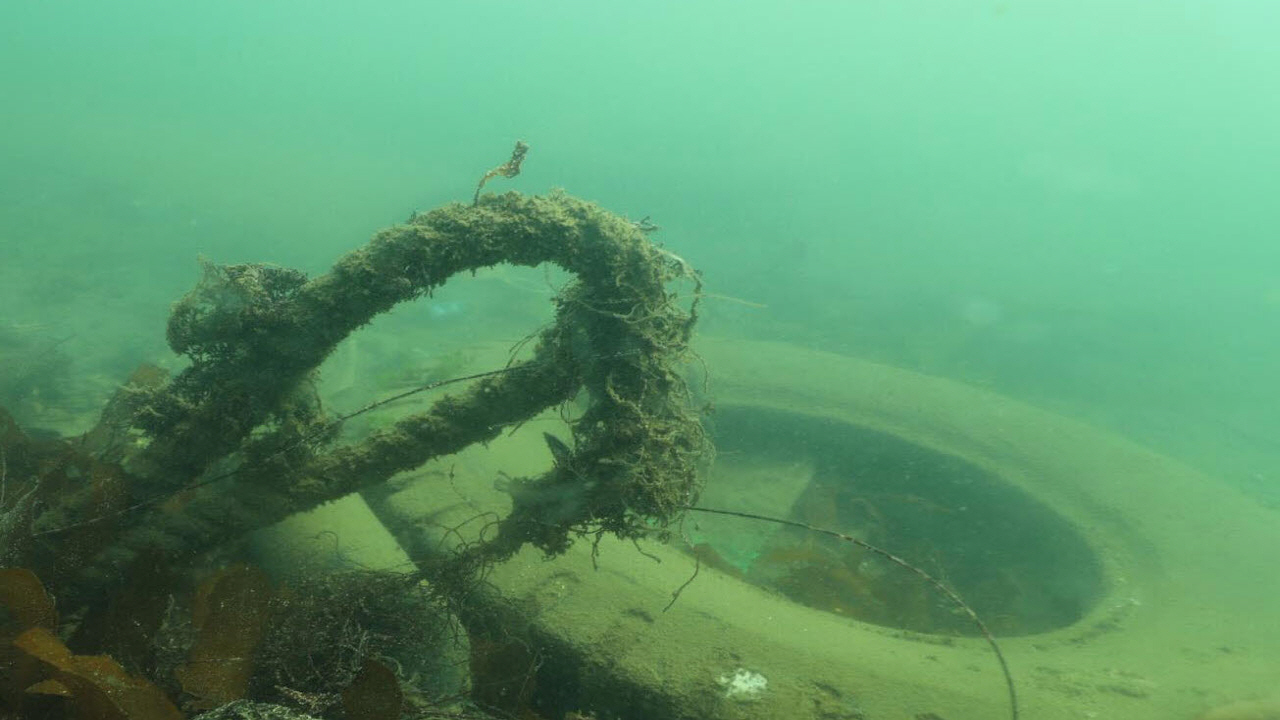rope: (0, 187, 653, 618)
tire: (357, 332, 1280, 720)
